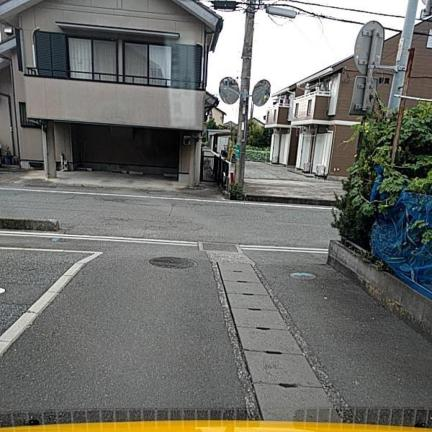Road: (0, 188, 431, 412)
